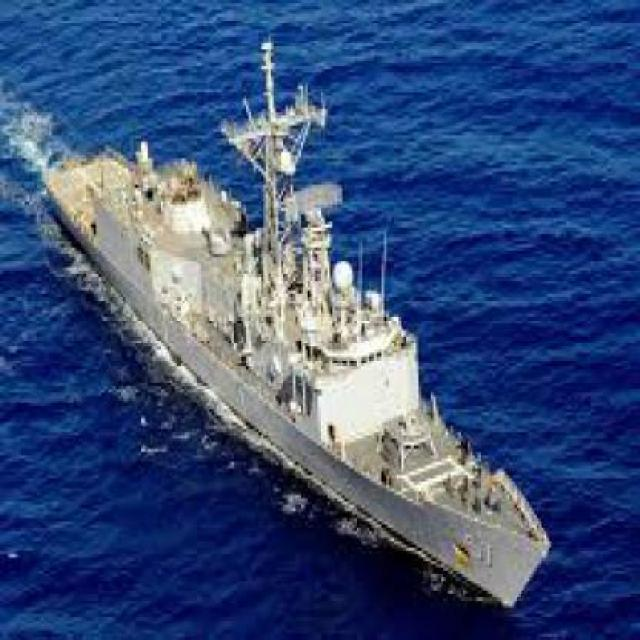warship2: (28, 27, 556, 624)
